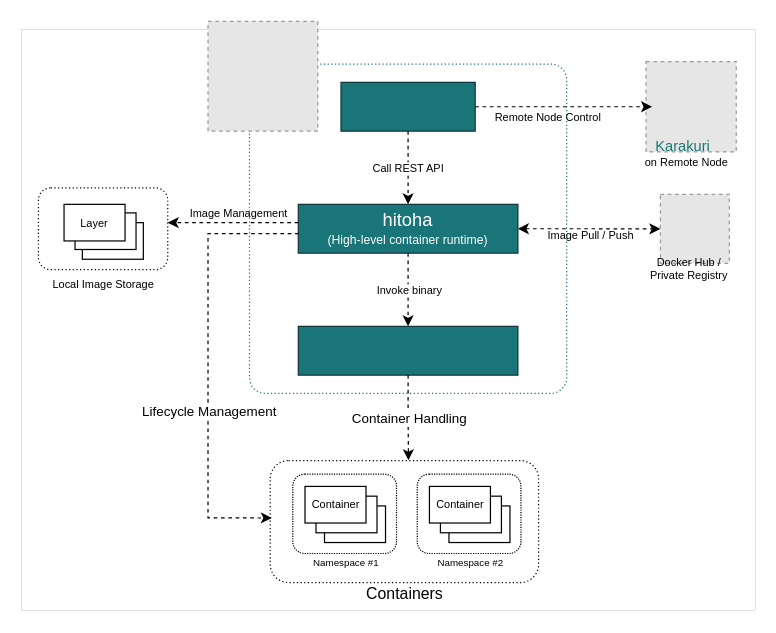
Some shapes in this 776 by 633 pixel diagram are drawn without their labels. Grey dashed boxes stand in for pictures. Here are the shapes that lost their labels. From the top down, the centre of each, then its label:
point 407,106: karakuri (CLI Tool)
point 407,350: futaba (low-level container runtime)
